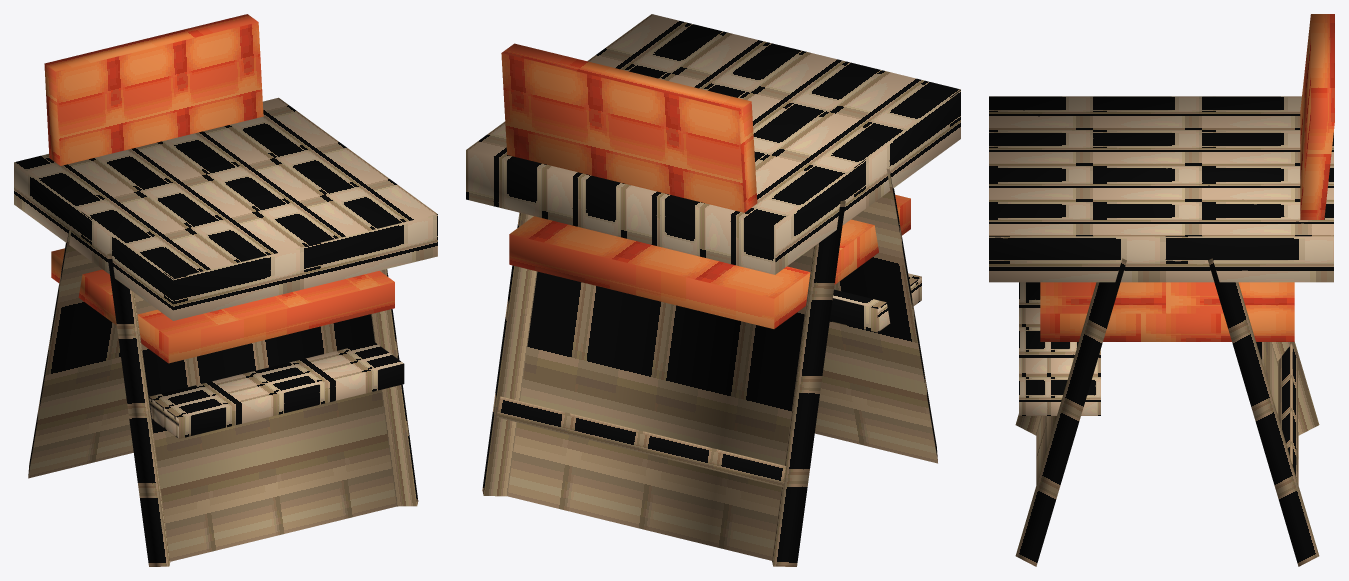
The model's file is 3339IMIG11_10.gltf.
3 views of the same model, side by side, from view 1: azimuth 30°, elevation 25°; view 2: azimuth 150°, elevation 25°; view 3: azimuth 270°, elevation 25° (orthographic). The views are drawn at different scales.
Visible parts, largest first — view 1: 3339IMIG11_10; view 2: 3339IMIG11_10; view 3: 3339IMIG11_10.
Boxes of the visible parts, box(x1,y1,x2,y2) form: 3339IMIG11_10: box(14, 14, 437, 566); 3339IMIG11_10: box(466, 14, 960, 566); 3339IMIG11_10: box(989, 14, 1334, 566).
Size of the model in its own units: 0.7225 by 1.01 by 0.7412.
Materials: 3 (3 with a texture image).
